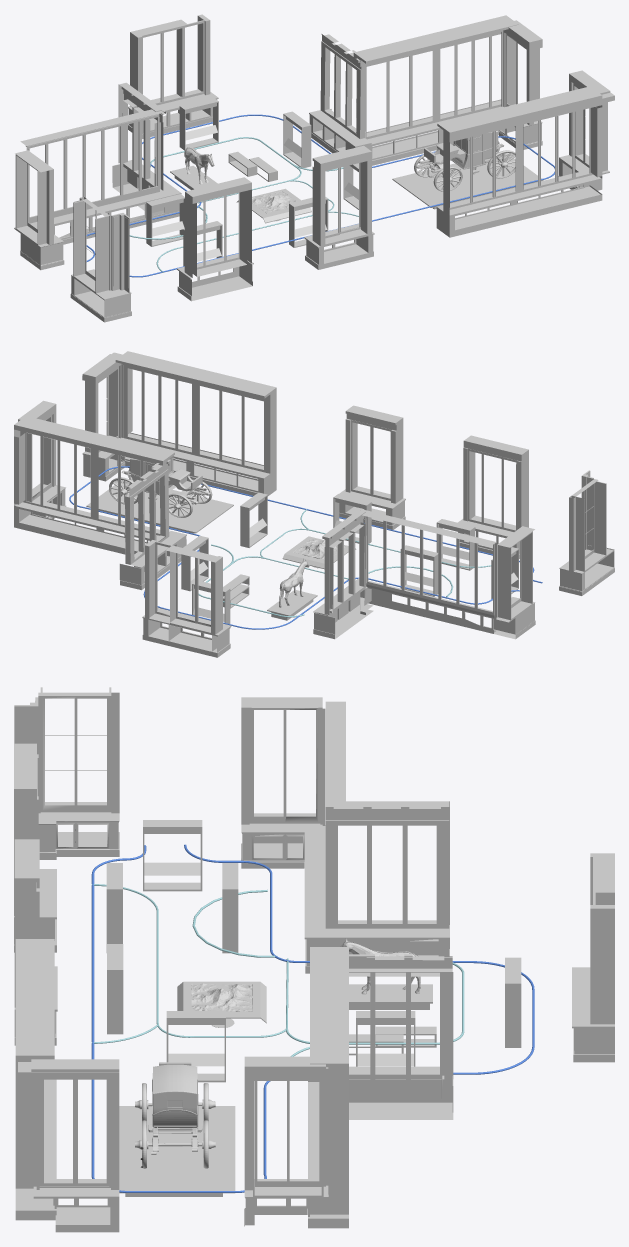
Rendered from PLAN04.obj.
3 views of the same model, one above another, from view 1: azimuth 30°, elevation 25°; view 2: azimuth 150°, elevation 25°; view 3: azimuth 270°, elevation 25° (orthographic). The views are drawn at different scales.
Visible parts, largest first — view 1: Mesh7_7, Mesh21, Mesh25, Mesh7, Mesh7_6, Mesh5, Mesh7_2, Mesh18, Mesh8, Mesh1, Mesh2, Mesh10 (+3 smaller); view 2: Mesh7_7, Mesh21, Mesh25, Mesh7, Mesh3, Mesh7_2, Mesh5, Mesh10, Mesh7_6, Mesh16, Mesh8, Mesh2 (+4 smaller); view 3: Mesh7_7, Mesh25, Mesh21, Mesh7, Mesh7_2, Mesh10, Mesh1, Mesh14, Mesh18, Mesh2, Mesh8, Mesh11 (+9 smaller).
Boxes of the visible parts, left/top/right/bottom form: Mesh7_7: left=14, top=14, right=610, bottom=322; Mesh21: left=414, top=131, right=515, bottom=191; Mesh25: left=392, top=153, right=543, bottom=209; Mesh7: left=86, top=114, right=554, bottom=277; Mesh7_6: left=62, top=75, right=614, bottom=240; Mesh5: left=283, top=111, right=311, bottom=167; Mesh7_2: left=129, top=137, right=358, bottom=272; Mesh18: left=179, top=97, right=218, bottom=150; Mesh8: left=146, top=194, right=184, bottom=246; Mesh1: left=252, top=191, right=296, bottom=213; Mesh2: left=236, top=188, right=311, bottom=223; Mesh10: left=170, top=165, right=217, bottom=189; Mesh7_7: left=14, top=351, right=614, bottom=657; Mesh21: left=109, top=456, right=212, bottom=517; Mesh25: left=86, top=480, right=233, bottom=533; Mesh7: left=69, top=466, right=542, bottom=629; Mesh3: left=240, top=492, right=267, bottom=547; Mesh7_2: left=198, top=509, right=491, bottom=617; Mesh5: left=181, top=535, right=208, bottom=591; Mesh10: left=267, top=590, right=317, bottom=620; Mesh7_6: left=82, top=352, right=364, bottom=613; Mesh16: left=436, top=519, right=475, bottom=570; Mesh8: left=400, top=545, right=438, bottom=596; Mesh2: left=282, top=536, right=356, bottom=569; Mesh7_7: left=14, top=687, right=614, bottom=1228; Mesh25: left=119, top=1106, right=235, bottom=1196; Mesh21: left=135, top=1062, right=215, bottom=1168; Mesh7: left=91, top=844, right=534, bottom=1192; Mesh7_2: left=91, top=884, right=464, bottom=1056; Mesh10: left=349, top=984, right=432, bottom=1009; Mesh1: left=191, top=983, right=252, bottom=1011; Mesh14: left=107, top=944, right=123, bottom=1034; Mesh18: left=505, top=957, right=521, bottom=1047; Mesh2: left=177, top=981, right=266, bottom=1027; Mesh8: left=222, top=863, right=238, bottom=953; Mesh11: left=143, top=820, right=202, bottom=891.
Size of the model in its own units: 21.98 by 4.45 by 14.26.
